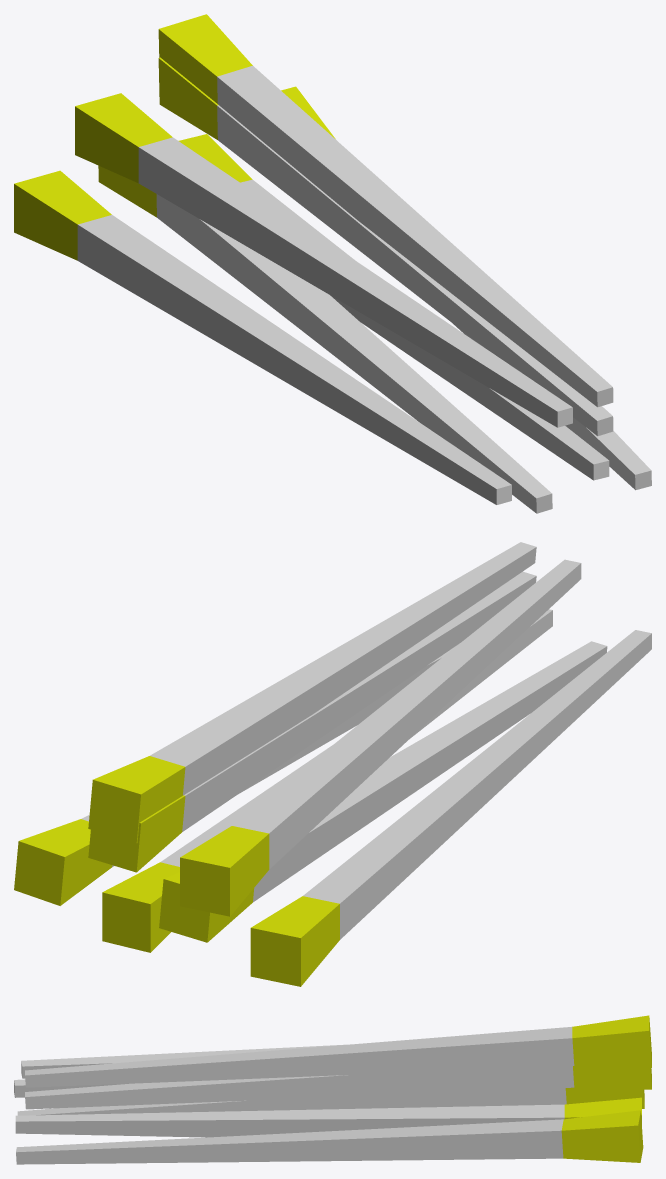
File: kongnamul.fbx
The picture shows the model from 3 angles, top to bottom: view 1: azimuth 30°, elevation 25°; view 2: azimuth 150°, elevation 25°; view 3: azimuth 270°, elevation 25°; orthographic projection. The views are drawn at different scales.
Parts seen in each view (by area): view 1: kongnamul; view 2: kongnamul; view 3: kongnamul.
Boxes of the visible parts, x1,y1,x2,y2 form: kongnamul: (14, 14, 651, 513); kongnamul: (14, 542, 651, 986); kongnamul: (14, 1015, 651, 1164).
Bounding box in the file's own units: 22.68 × 12.83 × 58.73.
